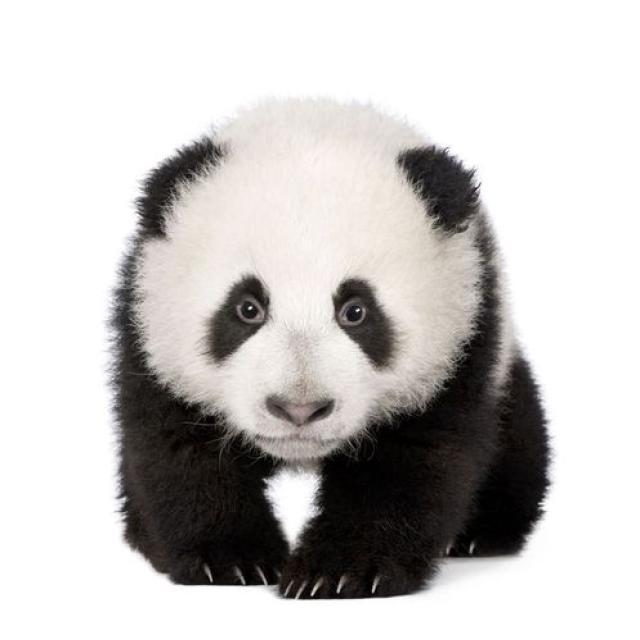panda: (107, 88, 554, 606)
